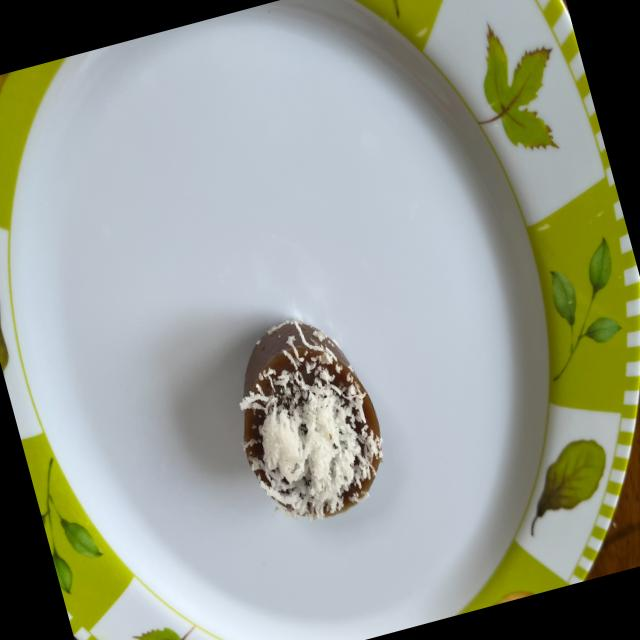Kuih lompang: (240, 318, 382, 520)
